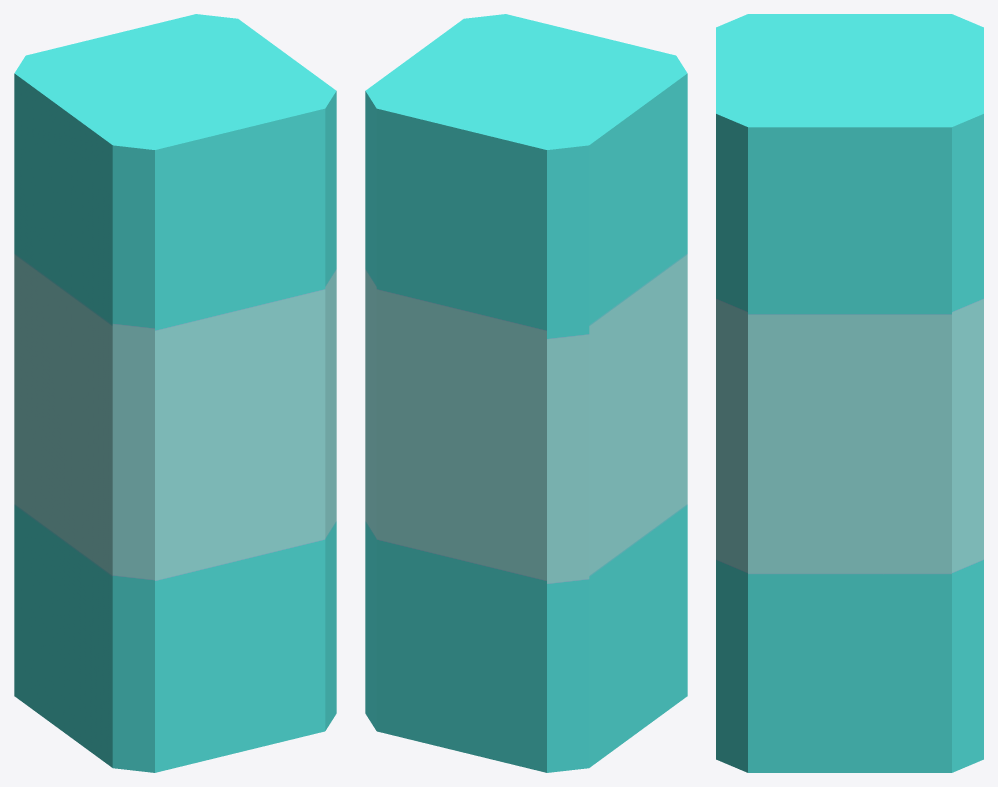
File: building.FBX
3 views of the same model, side by side, from view 1: azimuth 30°, elevation 25°; view 2: azimuth 150°, elevation 25°; view 3: azimuth 270°, elevation 25° (orthographic). The views are drawn at different scales.
Visible parts, largest first — view 1: Box001; view 2: Box001; view 3: Box001.
Boxes of the visible parts, x1,y1,x2,y2 form: Box001: (14, 14, 336, 772); Box001: (365, 14, 687, 772); Box001: (716, 14, 983, 772).
Size of the model in its own units: 394 by 1047 by 394.
